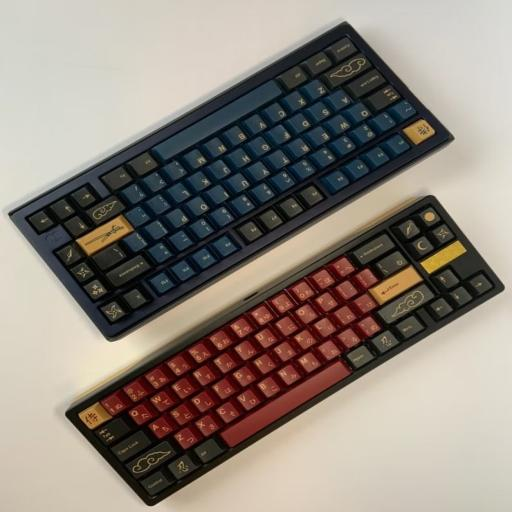keyboard: (16, 19, 494, 505)
